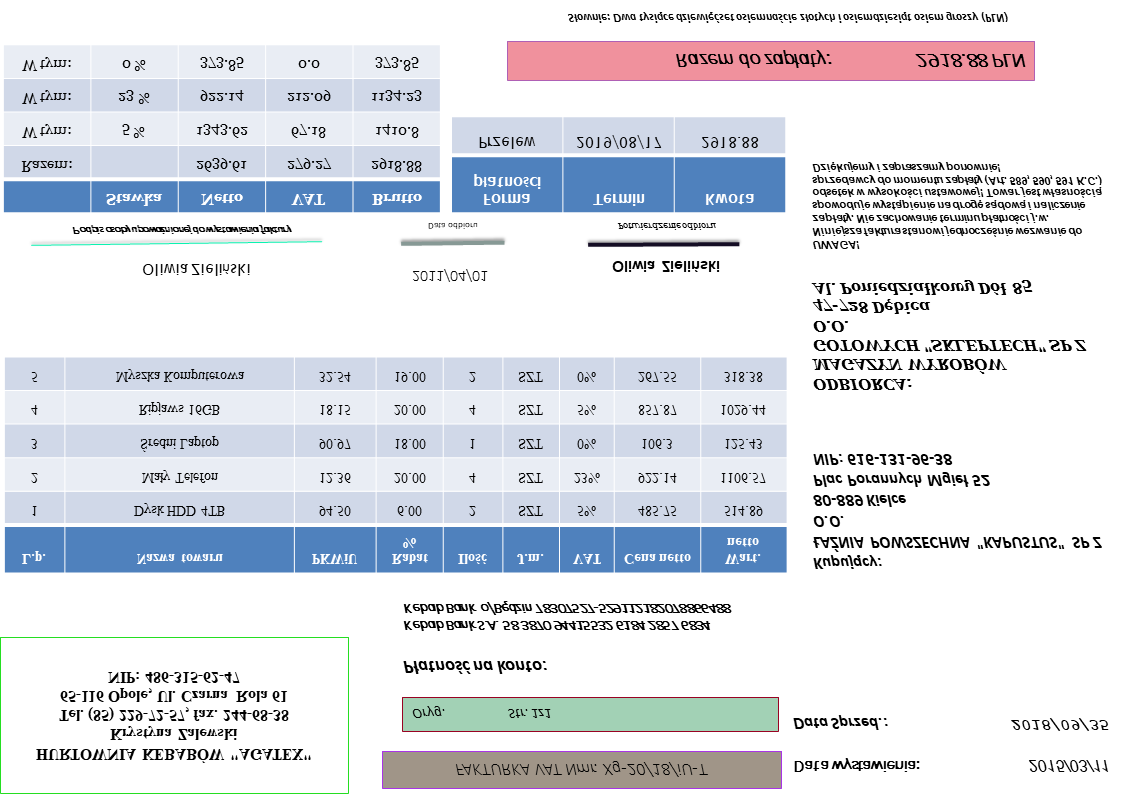Table: (2, 356, 789, 574), (2, 44, 441, 213), (450, 115, 786, 215)
TextBox: (809, 449, 1104, 573), (809, 276, 1089, 394), (31, 664, 315, 770), (810, 160, 1106, 255), (400, 600, 734, 636), (564, 8, 1011, 30), (672, 49, 1027, 74), (449, 760, 710, 780), (69, 221, 295, 239), (791, 753, 922, 778), (399, 656, 549, 677), (408, 704, 555, 724), (138, 260, 255, 281), (1007, 714, 1111, 735), (791, 713, 890, 734), (608, 258, 722, 276), (1026, 757, 1111, 776), (410, 266, 489, 285), (614, 220, 719, 234), (424, 221, 479, 232)
